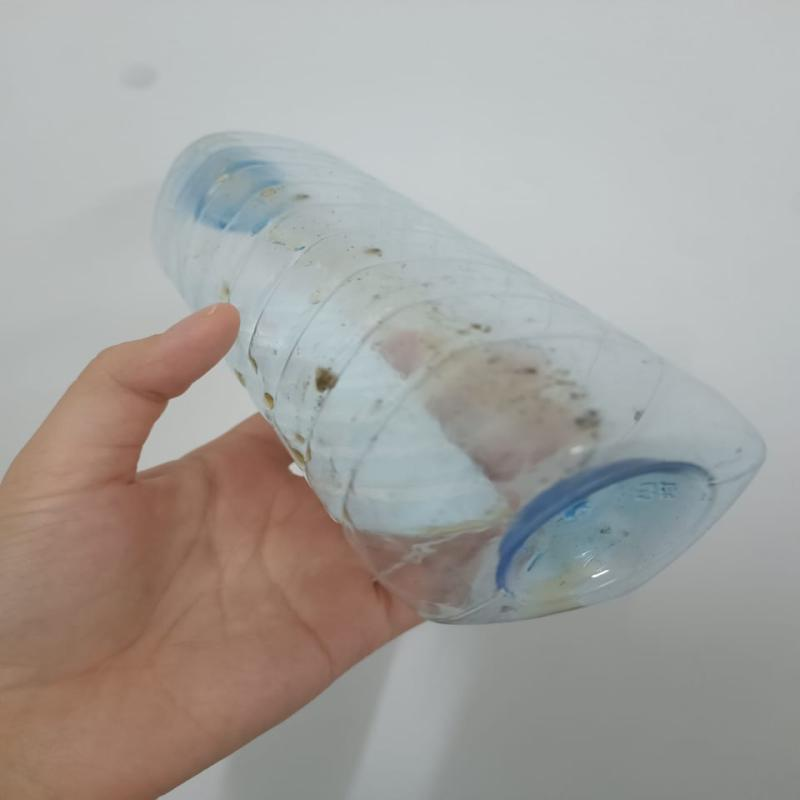botella: (154, 122, 776, 634)
